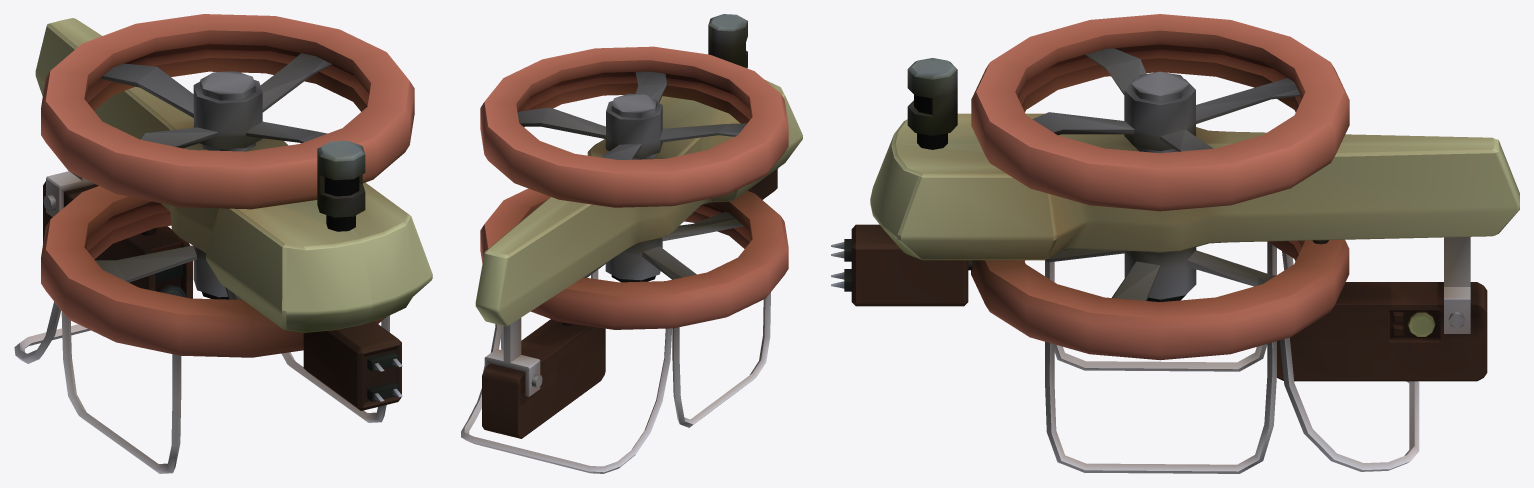
The model's file is flying_shock_drone.FBX.
3 renders of one model, left to right at view 1: azimuth 30°, elevation 25°; view 2: azimuth 150°, elevation 25°; view 3: azimuth 270°, elevation 25°, orthographic. The views are drawn at different scales.
Parts seen in each view (by area): view 1: body, top rotor, shock prod, motion sensor, camera armor, bottom rotor, camera; view 2: body, camera armor, top rotor, bottom rotor, motion sensor, shock prod; view 3: body, camera armor, top rotor, shock prod, bottom rotor, motion sensor.
Part boxes in pixels (left/top/right/bottom): body: left=14, top=14, right=432, bottom=473; top rotor: left=100, top=53, right=332, bottom=149; shock prod: left=303, top=321, right=402, bottom=410; motion sensor: left=317, top=140, right=365, bottom=231; camera armor: left=43, top=181, right=192, bottom=298; bottom rotor: left=95, top=245, right=242, bottom=299; camera: left=155, top=264, right=185, bottom=297; body: left=461, top=46, right=802, bottom=473; camera armor: left=482, top=319, right=605, bottom=438; top rotor: left=517, top=71, right=746, bottom=159; bottom rotor: left=584, top=212, right=743, bottom=280; motion sensor: left=708, top=14, right=747, bottom=68; shock prod: left=747, top=168, right=778, bottom=199; body: left=870, top=14, right=1519, bottom=473; camera armor: left=1277, top=282, right=1487, bottom=381; top rotor: left=1032, top=48, right=1300, bottom=151; shock prod: left=831, top=224, right=968, bottom=306; bottom rotor: left=1045, top=247, right=1275, bottom=300; motion sensor: left=907, top=58, right=957, bottom=149.
Bounding box in the file's own units: 0.3696 × 0.3876 × 0.6732.
